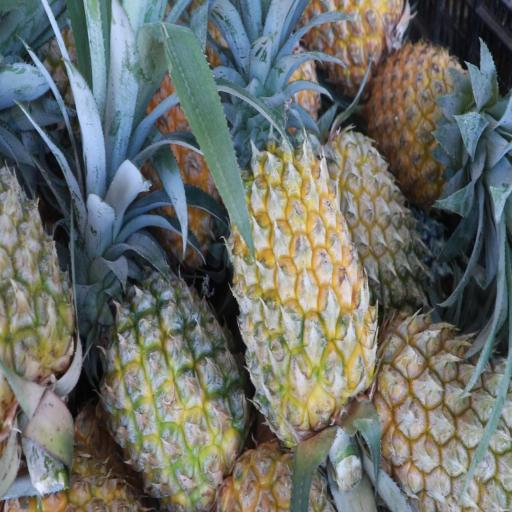Pineapple - v8 v1: (236, 148, 372, 436), (109, 276, 244, 504), (374, 38, 474, 186)
